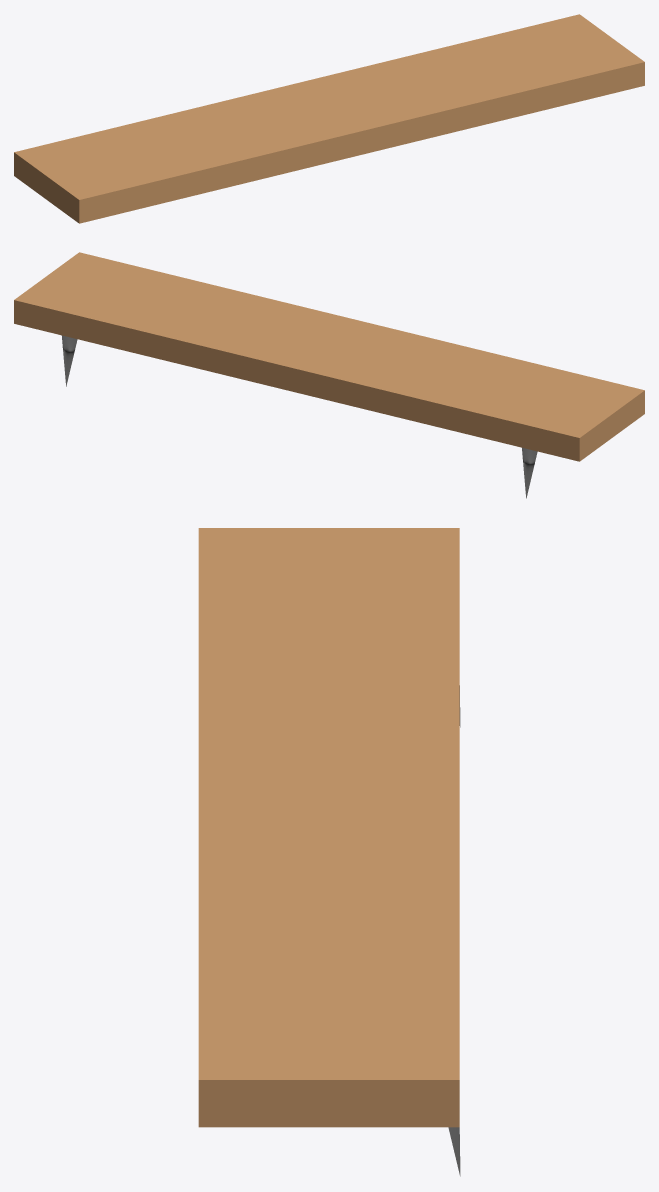
File: misc shelf.fbx
The picture shows the model from 3 angles, top to bottom: view 1: azimuth 30°, elevation 25°; view 2: azimuth 150°, elevation 25°; view 3: azimuth 270°, elevation 25°; orthographic projection. The views are drawn at different scales.
Parts seen in each view (by area): view 1: Cube.001; view 2: Cube.001; view 3: Cube.001.
Part boxes in pixels (x1=…): Cube.001: x1=14, y1=14, x2=644, y2=223; Cube.001: x1=14, y1=252, x2=644, y2=498; Cube.001: x1=198, y1=528, x2=460, y2=1176.
Bounding box in the file's own units: 1000 × 126 × 201.
